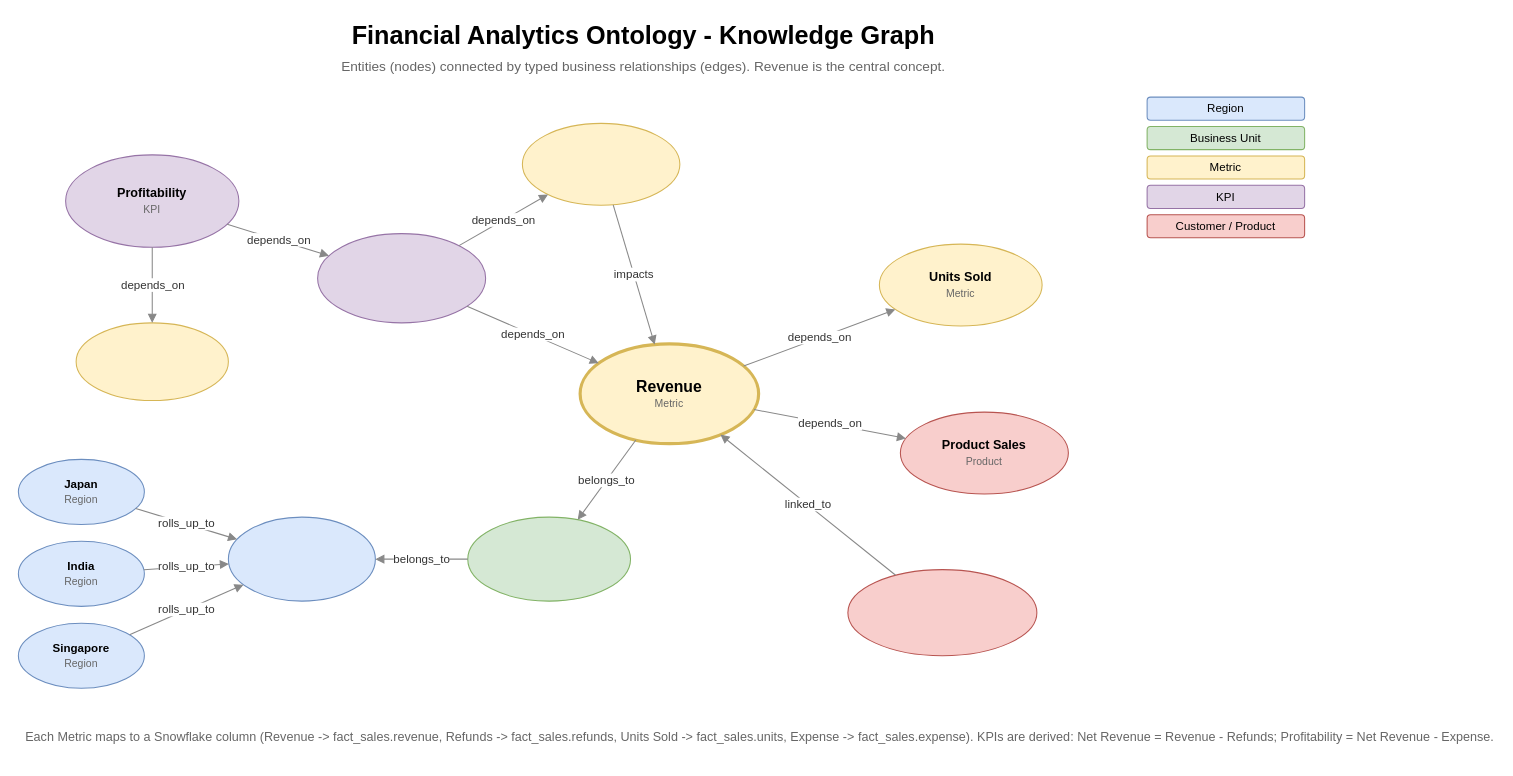
The diagram is 1513 pixels wide and 776 high, and some of its shapes have lost their labels. Each missing label, with the centre of its shape:
"APAC Region" belongs at [301,558].
"Expense Metric" belongs at [151,361].
"Net Revenue KPI" belongs at [401,278].
"Premium Customer Segment" belongs at [942,612].
"Refunds Metric" belongs at [600,163].
"Retail Business Unit" belongs at [549,558].
